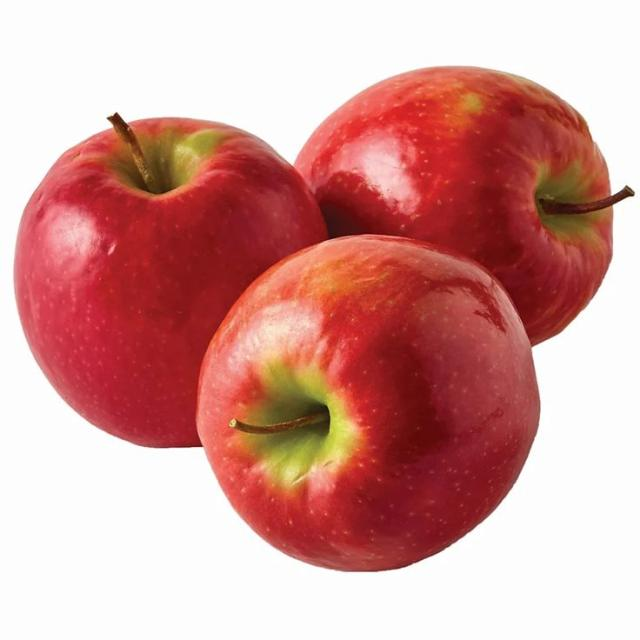apple: (198, 236, 539, 570), (15, 116, 326, 446), (296, 67, 633, 344)
